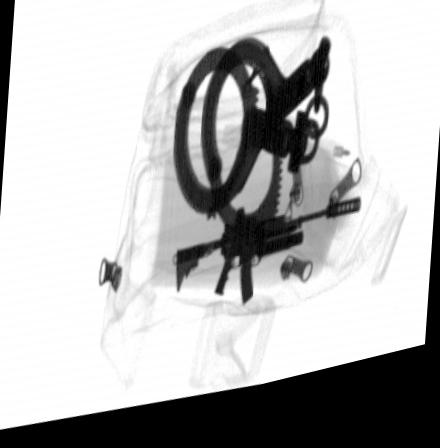Gun: (172, 210, 364, 323)
HandCuffs: (170, 47, 335, 230)
